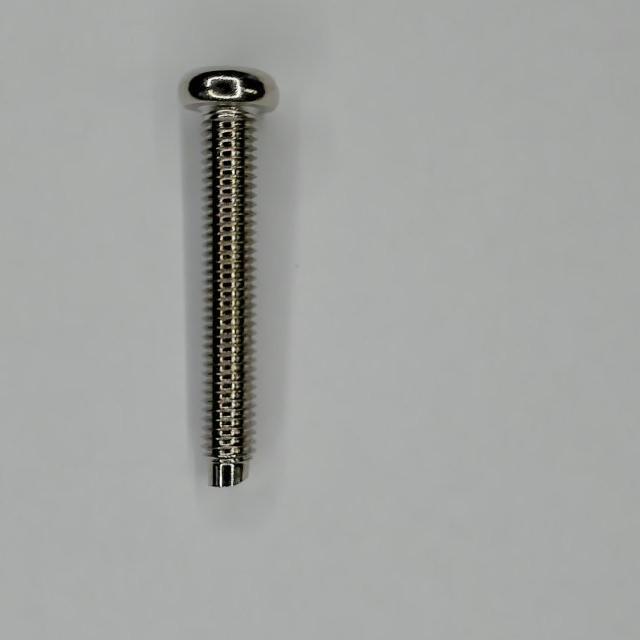Dry Waste: (138, 33, 332, 492)
